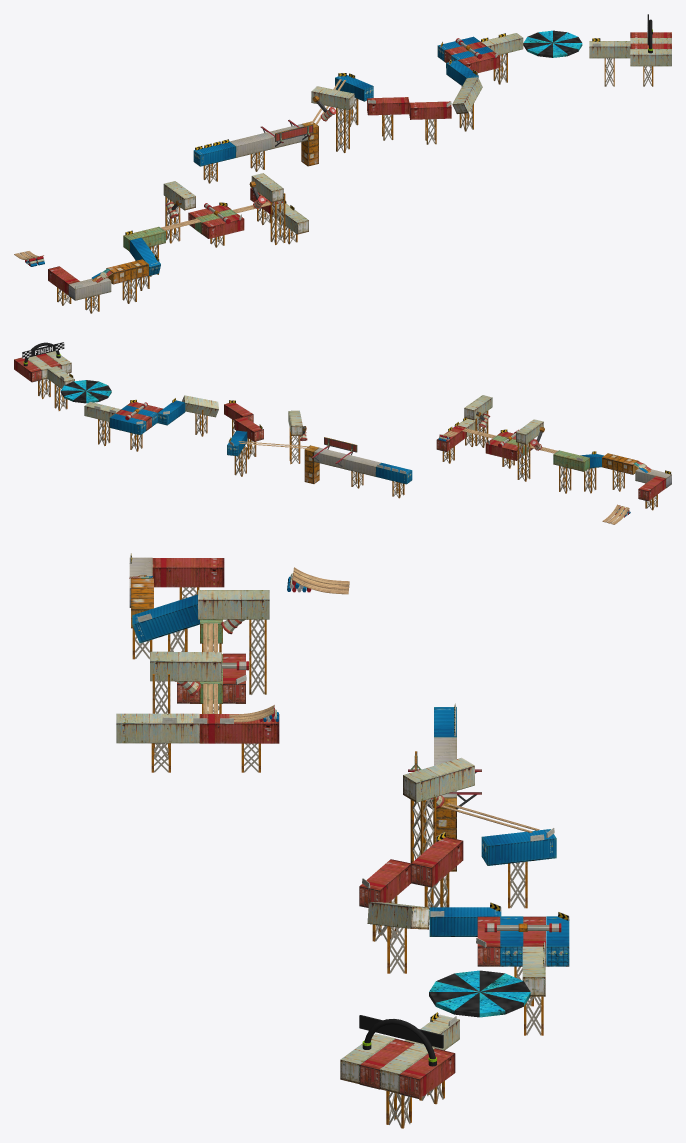
File: 5_Parkour.fbx
3 views of the same model, one above another, from view 1: azimuth 30°, elevation 25°; view 2: azimuth 150°, elevation 25°; view 3: azimuth 270°, elevation 25° (orthographic). The views are drawn at different scales.
Visible parts, largest first — view 1: TurningPlatform, stcontainerred__11_, stcontainerred__10_, stcontainerblue__2_, stcontainerwhite__9_, stcontainerwhite__10_, stcontainerwhite__12_, stcontainerred__5_, stcontainerorange, stcontainerwhite__7_, stcontainerwhitetwo, stcontainerwhitetwo__1_ (+11 smaller); view 2: TurningPlatform, stcontainerwhite__7_, stcontainergreentwo, stcontainerblue__6_, stcontainerorange, stcontainerblue__2_, stcontainerred__6_, stcontainerwhitetwo__1_, stcontainerorange__1_, stcontainerwhitetwo__2_, stcontainerred__4_, stcontainerwhite__13_ (+14 smaller); view 3: TurningPlatform, stcontainerwhite__3_, stcontainerwhite__12_, stcontainerred__4_, stcontainerblue__3_, stcontainerwhite__14_, stcontainerwhite__13_, stcontainerred__7_, stcontainerblue, stcontainerred__10_, stcontainerred__15_, finishObject (+12 smaller).
Boxes of the visible parts, box(x1,y1,x2,y2) form: TurningPlatform: box(523, 30, 582, 57); stcontainerred__11_: box(409, 101, 451, 119); stcontainerred__10_: box(367, 97, 409, 115); stcontainerblue__2_: box(193, 141, 236, 166); stcontainerwhite__9_: box(589, 41, 630, 58); stcontainerwhite__10_: box(630, 49, 671, 66); stcontainerwhite__12_: box(311, 86, 354, 110); stcontainerred__5_: box(201, 214, 244, 238); stcontainerorange: box(106, 259, 148, 284); stcontainerwhite__7_: box(452, 77, 482, 113); stcontainerwhitetwo: box(68, 278, 111, 300); stcontainerwhitetwo__1_: box(230, 133, 271, 157); TurningPlatform: box(60, 380, 111, 403); stcontainerwhite__7_: box(182, 395, 218, 417); stcontainergreentwo: box(553, 450, 589, 471); stcontainerblue__6_: box(109, 413, 146, 435); stcontainerorange: box(602, 453, 638, 474); stcontainerblue__2_: box(375, 463, 412, 484); stcontainerred__6_: box(485, 439, 521, 460); stcontainerwhitetwo__1_: box(345, 455, 381, 476); stcontainerorange__1_: box(304, 445, 319, 483); stcontainerwhitetwo__2_: box(314, 448, 350, 469); stcontainerred__4_: box(638, 476, 665, 501); stcontainerwhite__13_: box(464, 395, 492, 420); TurningPlatform: box(429, 970, 530, 1017); stcontainerwhite__3_: box(116, 713, 199, 743); stcontainerwhite__12_: box(403, 757, 474, 802); stcontainerred__4_: box(152, 558, 224, 587); stcontainerblue__3_: box(481, 829, 556, 865); stcontainerwhite__14_: box(198, 590, 269, 619); stcontainerwhite__13_: box(150, 651, 221, 681); stcontainerred__7_: box(199, 714, 279, 743); stcontainerblue: box(132, 594, 199, 643); stcontainerred__10_: box(411, 837, 463, 887); stcontainerred__15_: box(399, 1048, 455, 1099); finishObject: box(359, 1015, 443, 1066).
Bounding box in the file's own units: 31481 × 3525 × 10551.
